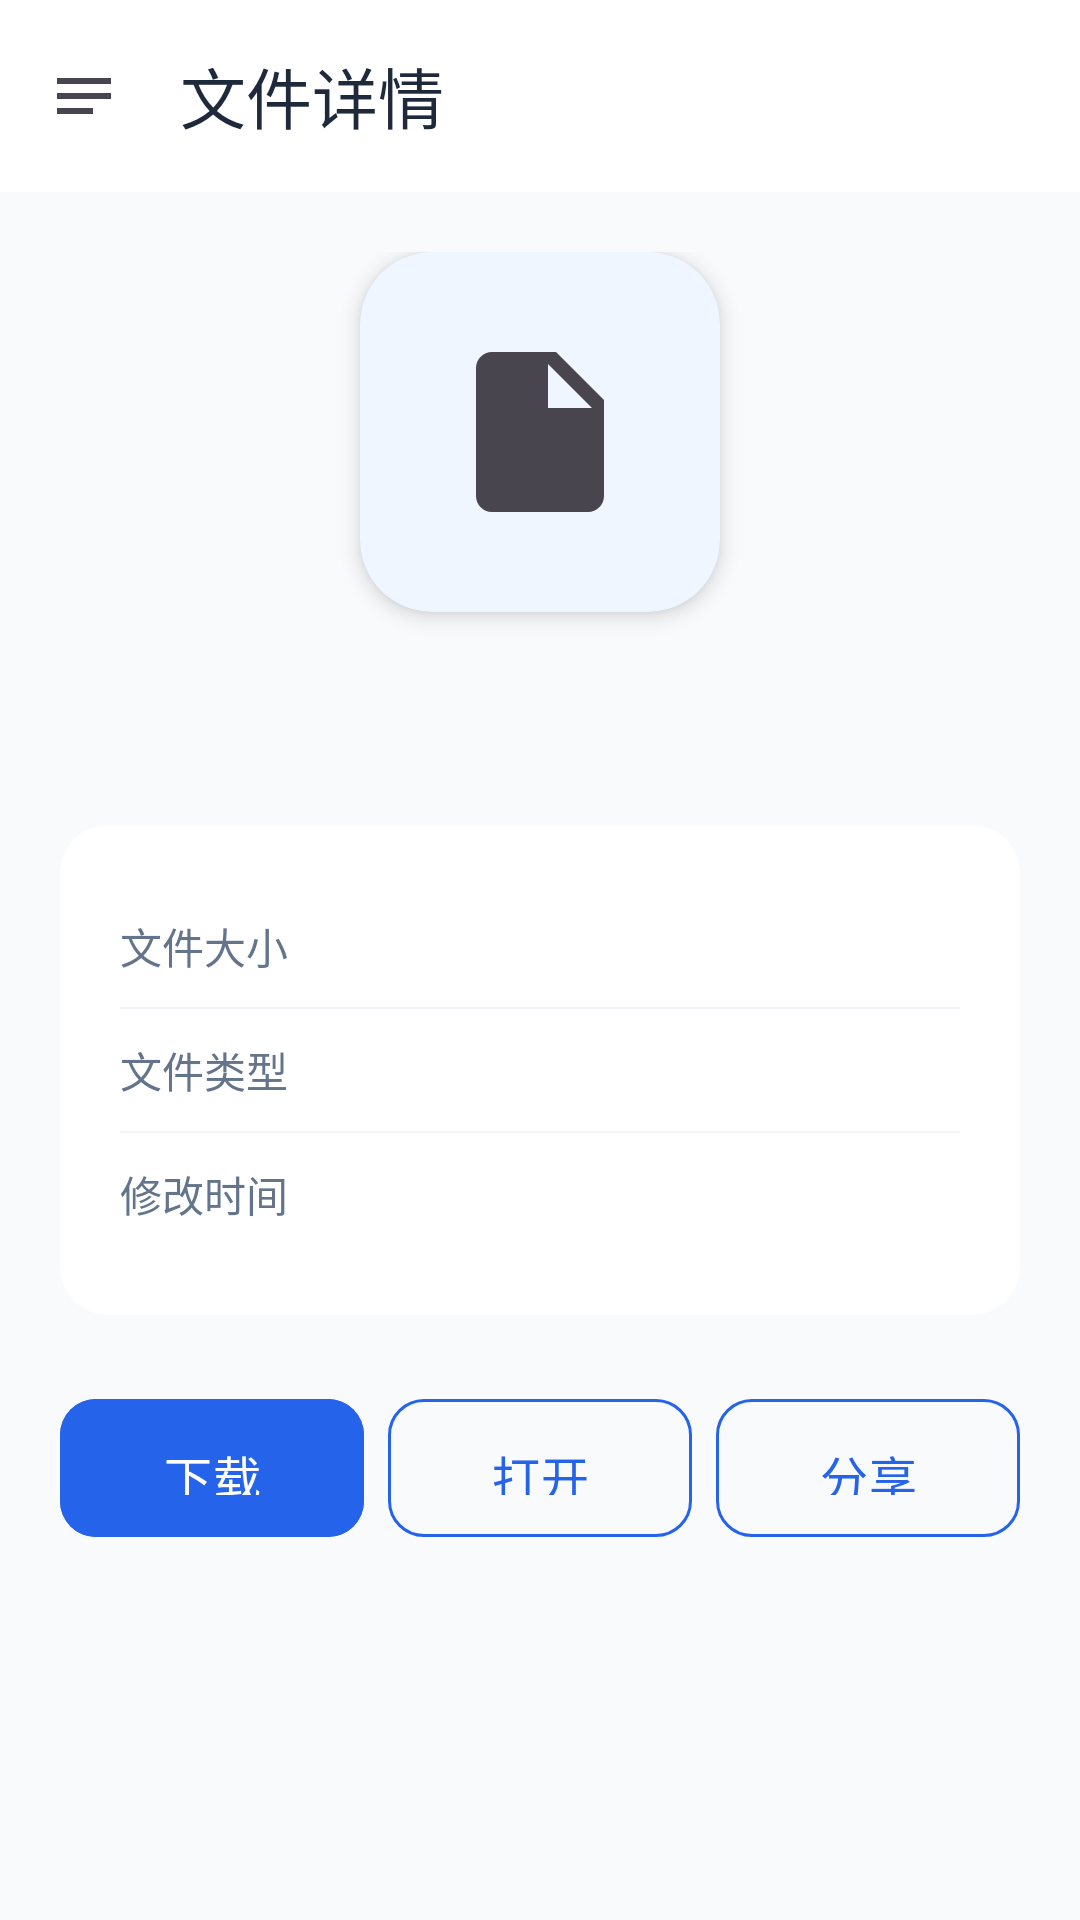

Named icons in this screenshot (1080 x 1920) and their centers, (x=x, y=y):
file: (x=540, y=432)
